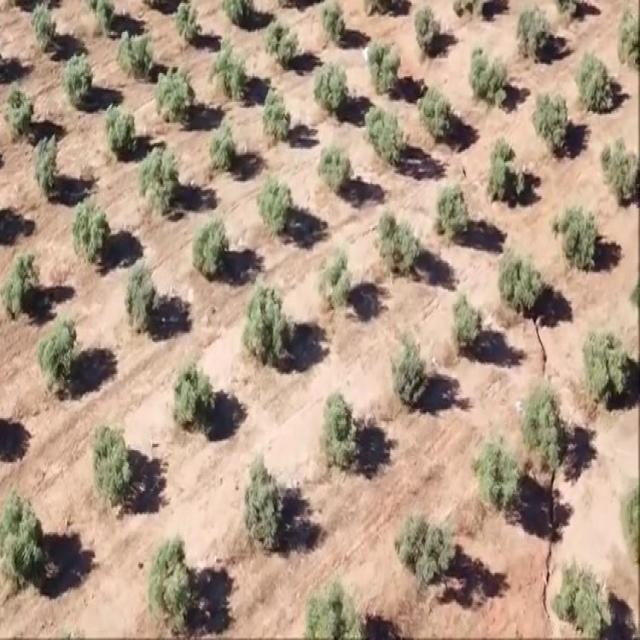trees: (138, 520, 208, 632), (544, 548, 629, 640), (377, 502, 457, 597), (0, 470, 56, 604), (233, 444, 291, 556), (513, 374, 570, 486), (237, 270, 295, 378), (578, 315, 636, 413), (166, 339, 223, 438), (470, 414, 517, 530), (80, 412, 130, 521), (310, 379, 366, 473), (31, 300, 80, 404), (368, 200, 425, 288), (549, 191, 604, 279), (119, 245, 168, 343), (384, 326, 439, 411), (308, 236, 360, 325), (491, 239, 546, 323), (522, 80, 580, 158), (188, 202, 240, 285), (306, 135, 360, 213), (67, 192, 117, 276), (134, 136, 182, 223), (432, 169, 482, 250), (465, 40, 516, 117), (360, 93, 407, 172), (0, 241, 44, 325), (443, 282, 489, 362), (207, 28, 253, 107), (152, 57, 200, 132), (600, 125, 639, 217), (307, 53, 355, 127), (484, 134, 528, 210), (28, 126, 72, 200), (256, 166, 302, 235), (59, 37, 99, 116), (362, 29, 404, 100), (417, 79, 457, 150), (257, 84, 296, 156), (94, 93, 138, 156), (5, 74, 41, 148), (575, 49, 614, 113), (205, 113, 245, 173), (511, 0, 550, 59), (112, 24, 155, 76), (409, 3, 446, 62), (24, 0, 56, 62), (262, 19, 299, 71), (315, 0, 351, 53), (173, 0, 206, 48)
